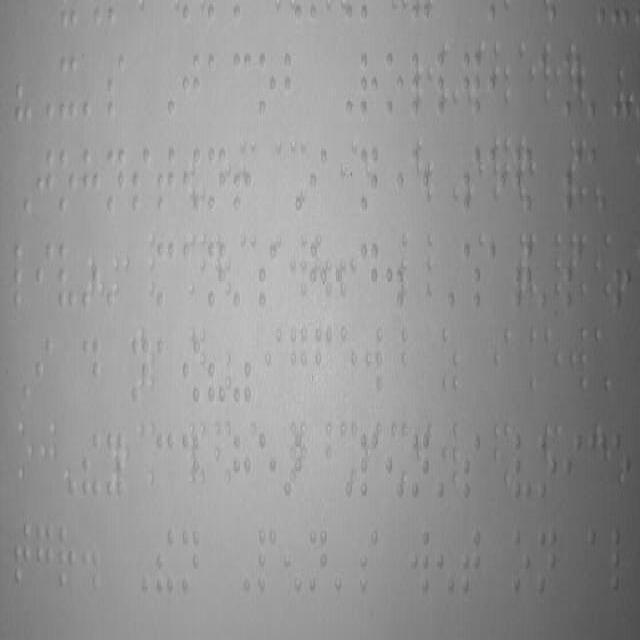braiile: (56, 146, 80, 218), (230, 49, 253, 124), (280, 49, 304, 120), (155, 142, 177, 218), (180, 52, 202, 126), (206, 50, 228, 124), (12, 238, 34, 312), (461, 525, 483, 599), (461, 430, 483, 503), (58, 46, 78, 126), (130, 144, 152, 216), (536, 526, 558, 598), (105, 49, 127, 120), (255, 49, 277, 120), (56, 240, 78, 311), (358, 47, 379, 121), (586, 428, 606, 504), (81, 144, 102, 216), (360, 238, 380, 313), (410, 528, 432, 596), (488, 239, 507, 317), (81, 334, 102, 404), (308, 144, 328, 216), (36, 146, 56, 218), (257, 242, 277, 314), (586, 524, 606, 596), (58, 522, 78, 594), (105, 146, 126, 214), (358, 528, 379, 596), (34, 240, 54, 311), (512, 431, 532, 502), (34, 520, 54, 591), (34, 334, 54, 404), (384, 47, 404, 116), (232, 432, 252, 501), (207, 146, 227, 214), (610, 526, 630, 594), (512, 526, 532, 594), (308, 526, 328, 594), (258, 528, 278, 596), (181, 528, 201, 596), (564, 432, 582, 506), (157, 334, 176, 404), (157, 241, 176, 310), (14, 520, 32, 591), (156, 430, 174, 499), (258, 430, 276, 499)
